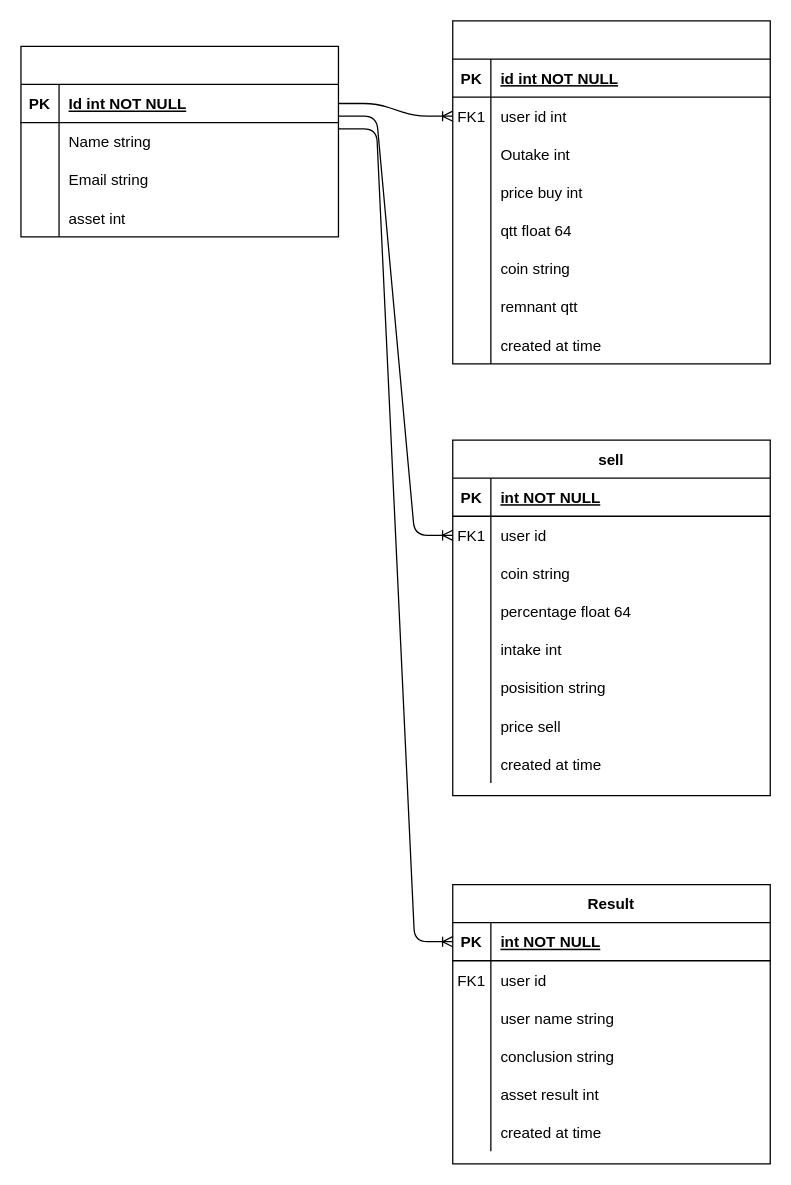
Some shapes in this 791 by 1185 pixel diagram are drawn without their labels. Each missing label, with the box of its shape:
Transaction: (451, 20, 770, 364)
Users: (20, 45, 338, 237)
